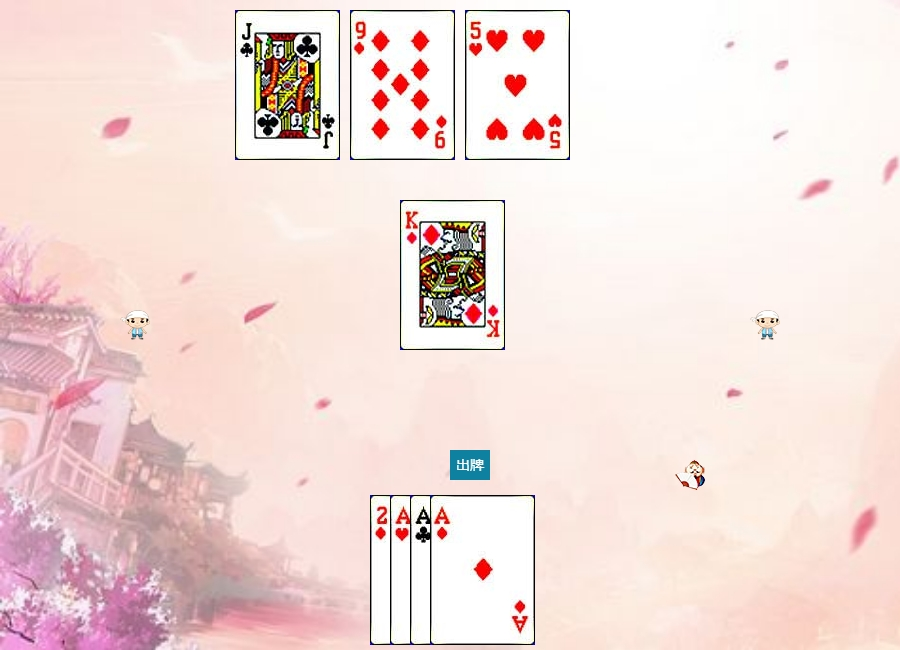11~2: (235, 10, 340, 160)
13~1: (400, 200, 505, 350)
14~1: (430, 495, 535, 645)
14~2: (410, 495, 515, 645)
14~3: (390, 495, 495, 645)
15~1: (370, 495, 475, 645)
5~3: (465, 10, 570, 160)
9~1: (350, 10, 455, 160)
